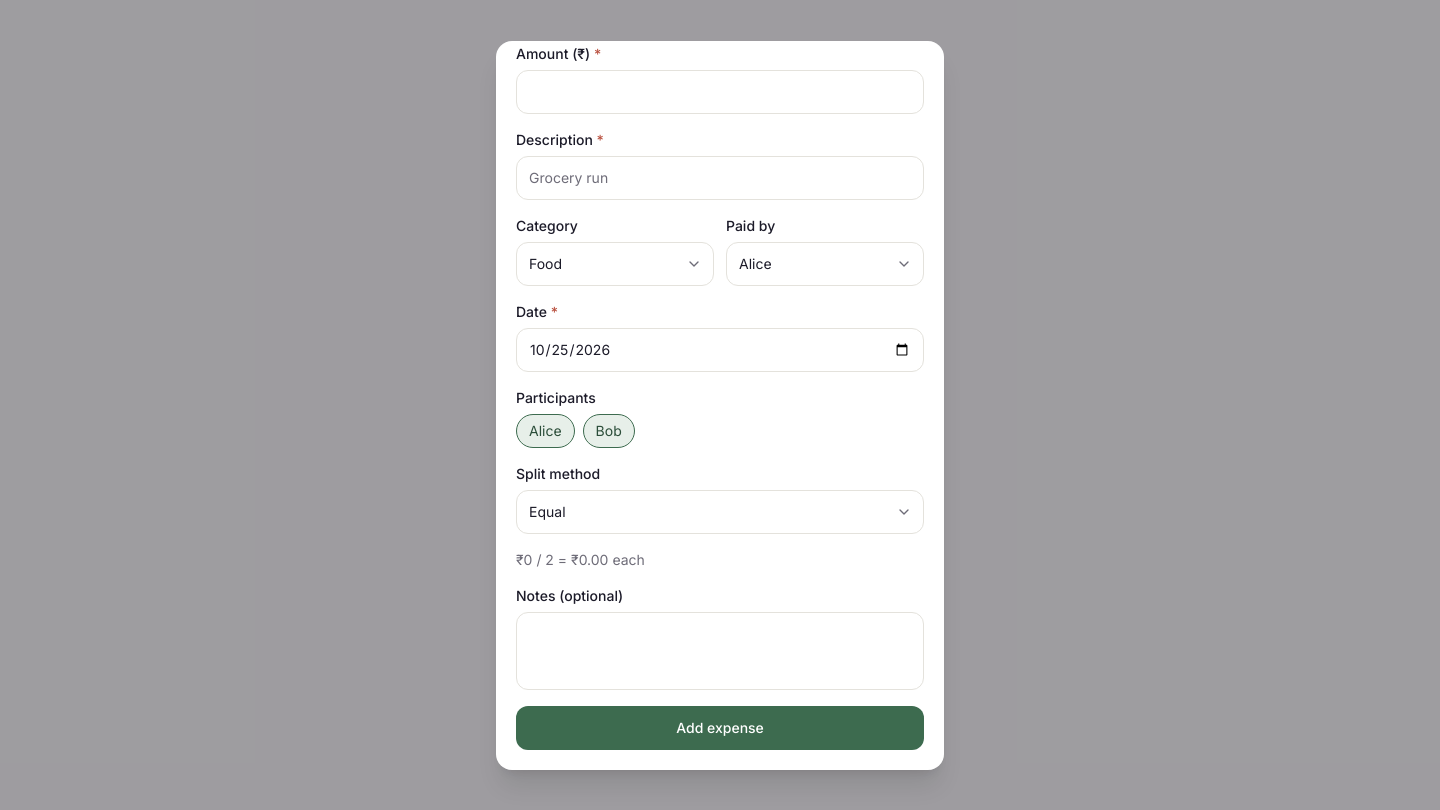
Test: AddExpenseModal › validates required fields on submit with empty inputs
(page scrolled)
Click the button "Add expense" at (720, 728), box 516,706 -> 924,750
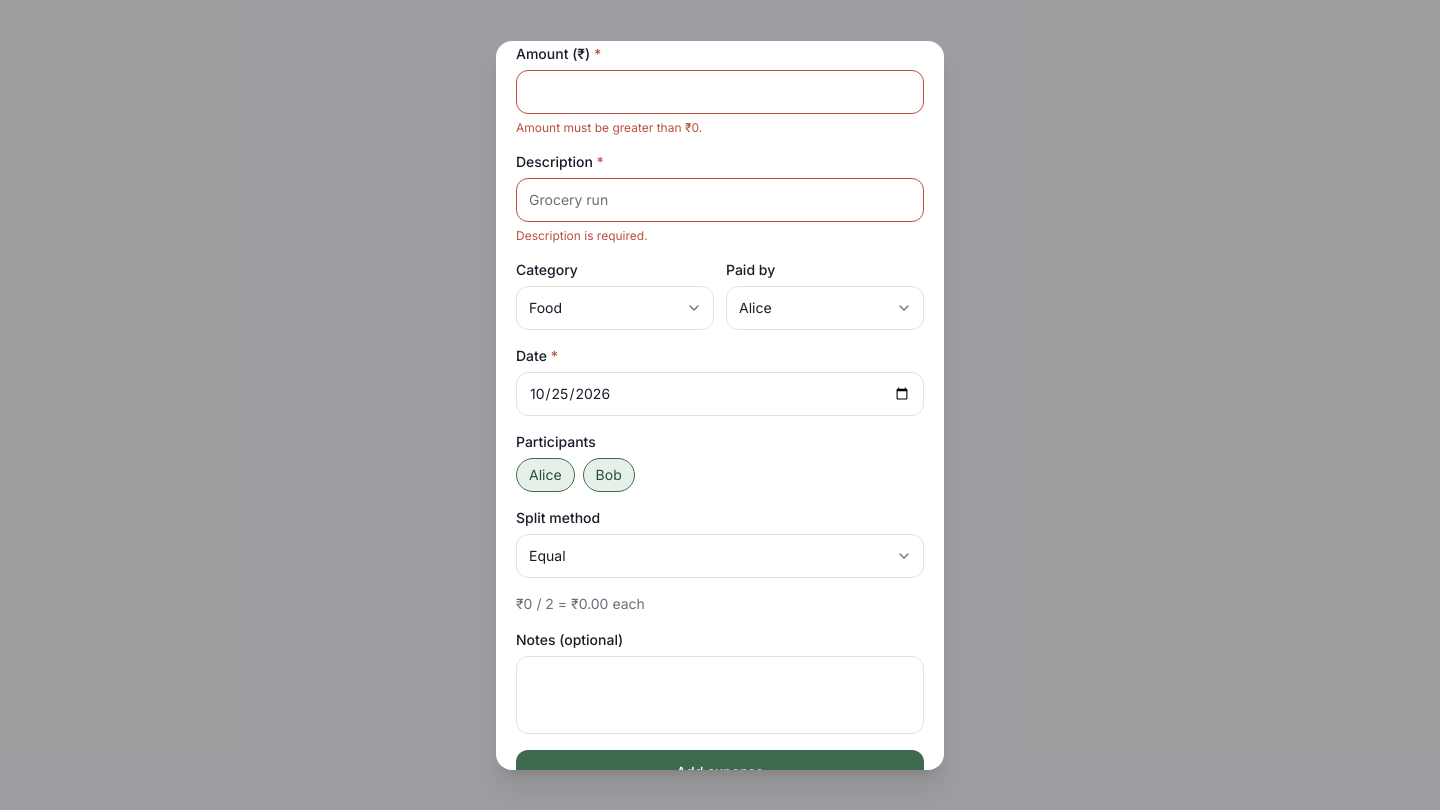
Expected: the text "Amount must be greater than ₹0." is shown, 516,120 -> 702,134
Expected: the text "Description is required." is shown, 516,228 -> 648,242
